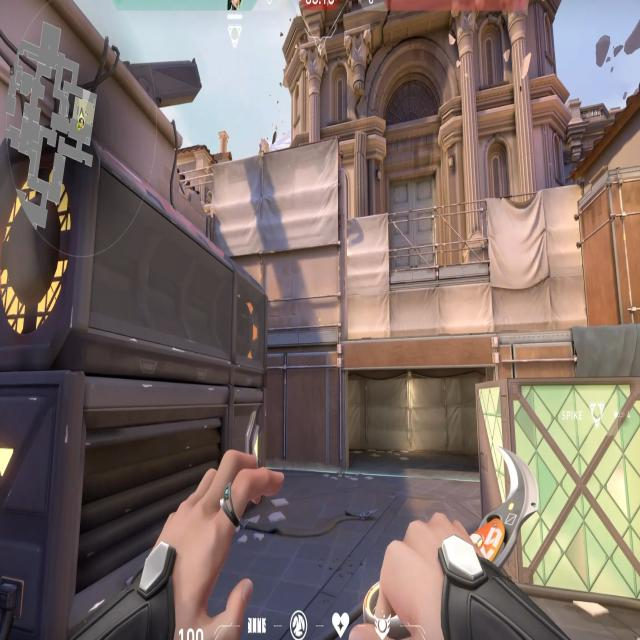A_Heaven_Box: (562, 154, 640, 331)
A_Heaven_Wall: (225, 133, 367, 335)
A_Hell: (331, 329, 493, 488)
A_Site_Box: (468, 354, 640, 614)
